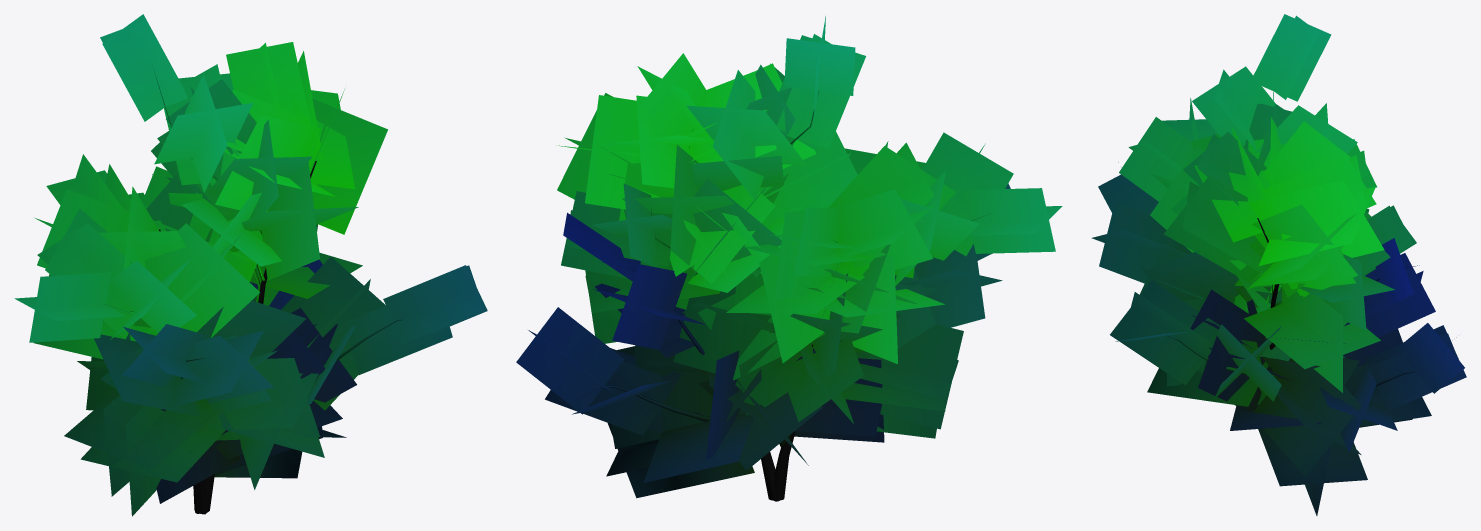
Rendered from Bush4.fbx.
The picture shows the model from 3 angles, left to right: view 1: azimuth 30°, elevation 25°; view 2: azimuth 150°, elevation 25°; view 3: azimuth 270°, elevation 25°; orthographic projection. The views are drawn at different scales.
Parts seen in each view (by area): view 1: Tree_1, Tree_0; view 2: Tree_1, Tree_0; view 3: Tree_1, Tree_0.
Part boxes in pixels (x1,y1,x2,y2): Tree_1: [14, 14, 487, 516]; Tree_0: [102, 68, 403, 514]; Tree_1: [516, 16, 1062, 498]; Tree_0: [578, 91, 991, 501]; Tree_1: [1091, 14, 1466, 515]; Tree_0: [1150, 91, 1419, 394].
Bounding box in the file's own units: 313 × 355 × 279.
